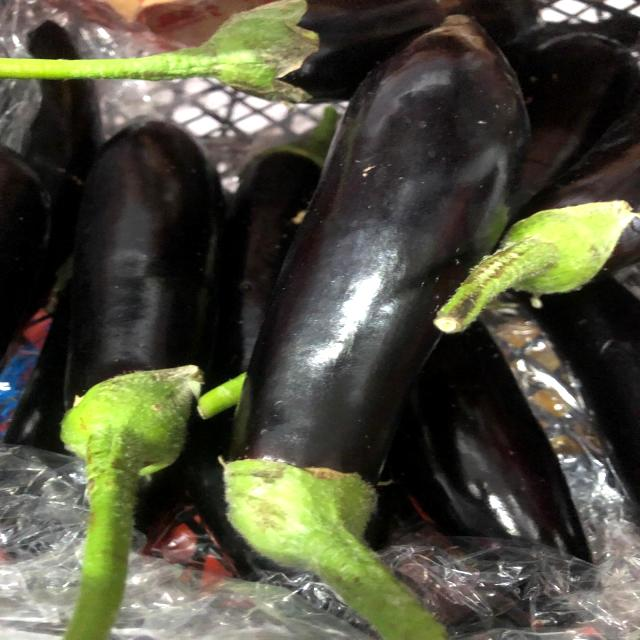eggplant: (214, 5, 562, 640), (23, 112, 237, 640)
